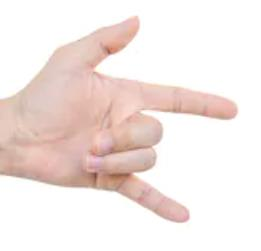back: (24, 14, 242, 224)
